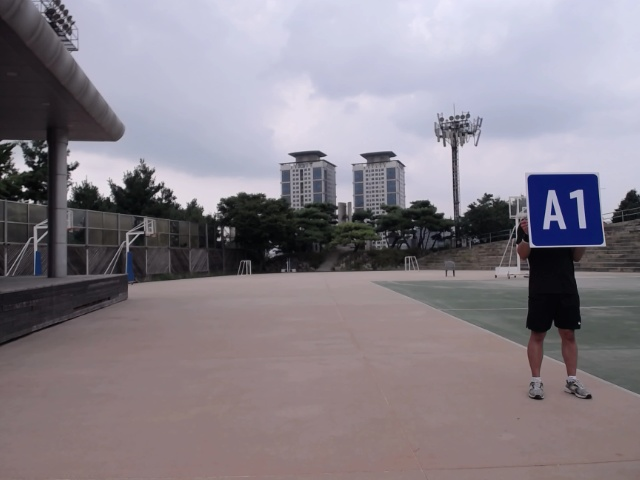delivery_a1: (526, 172, 605, 248)
